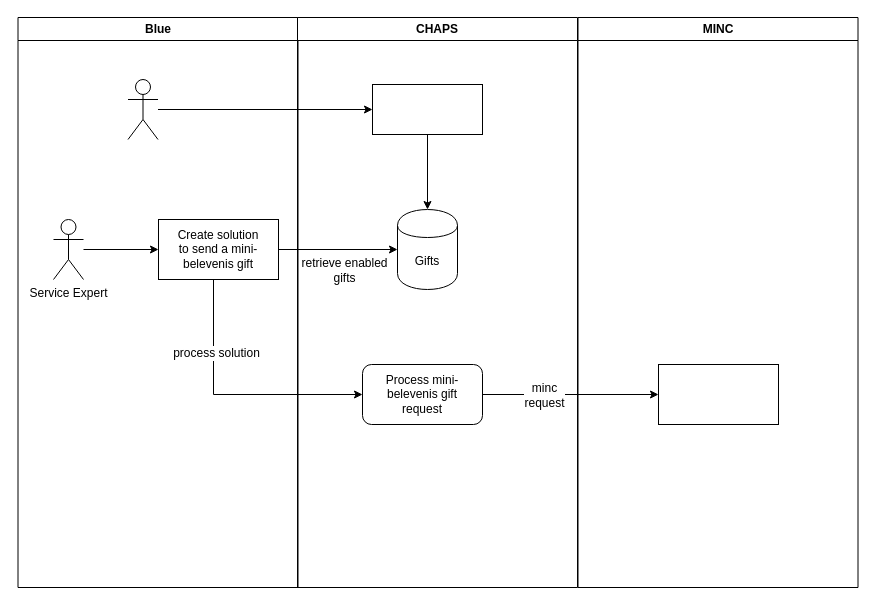
Image size: 875x605. Some labels were removed from this diagram. The shapes that lost their labels are listed below. From the top down, each one's centre as x and y in pixels, then its label:
At point 142,109: "Happiness Admin".
At point 427,109: "Enable/Disable Mini-Belevenis Gifts".
At point 718,394: "Create mini-belevenis".
